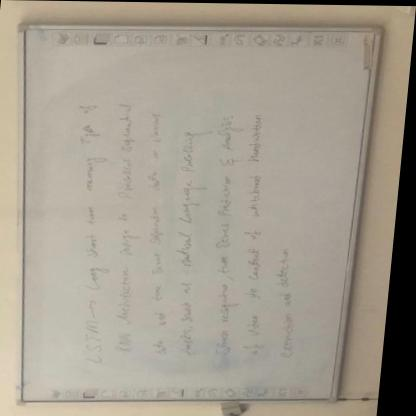Handwritten text: (73, 93, 115, 368), (243, 107, 281, 363), (212, 112, 248, 362), (176, 126, 214, 360), (143, 103, 177, 359), (112, 95, 143, 361), (281, 242, 304, 364)
Whiteboard: (12, 18, 394, 408)
